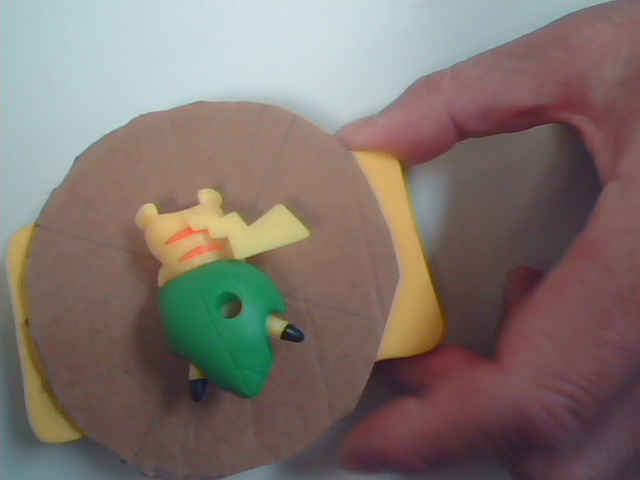pikachu: (94, 173, 347, 426)
